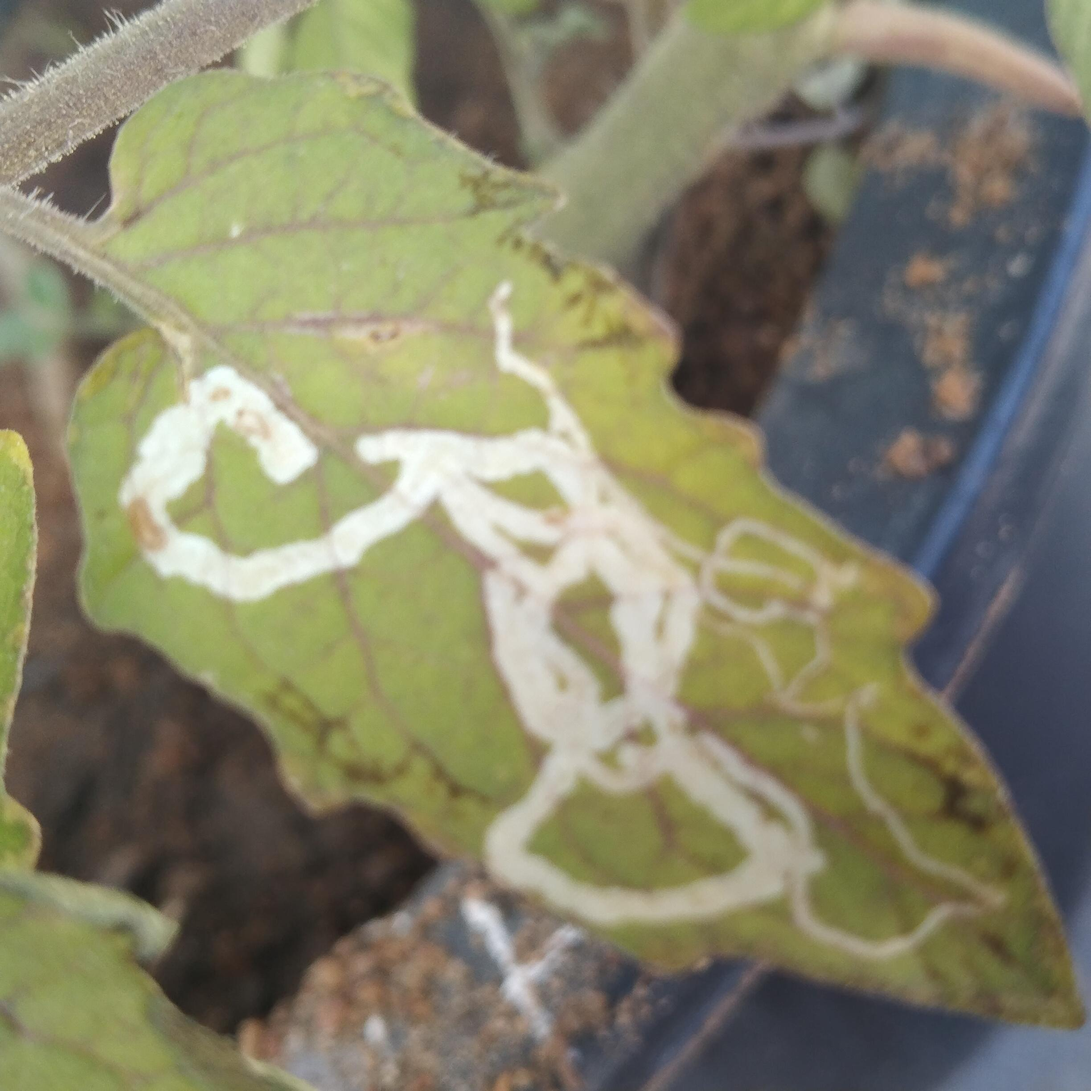Leaf_Miner: (53, 65, 1027, 1091)
